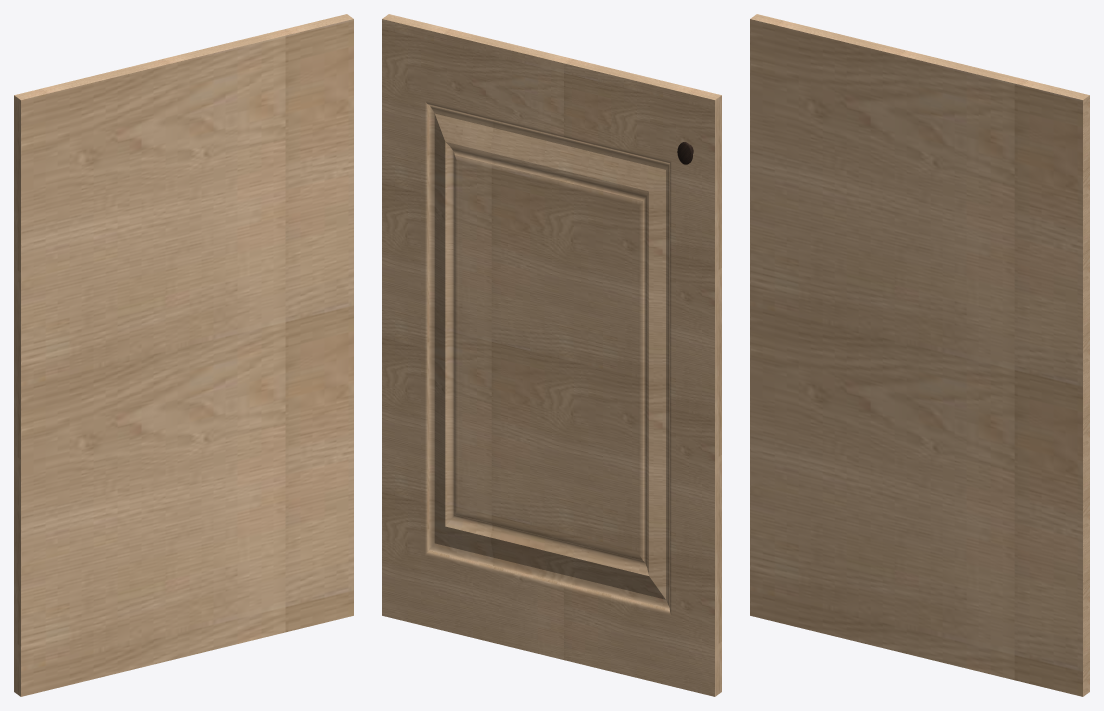
Rendered from дверь гостинная.FBX.
The picture shows the model from 3 angles, left to right: view 1: azimuth 30°, elevation 25°; view 2: azimuth 150°, elevation 25°; view 3: azimuth 330°, elevation 25°; orthographic projection.
Visible parts, largest first — view 1: Object183; view 2: Object183; view 3: Object183.
Part boxes in pixels (x1,y1,x2,y2): Object183: (14, 14, 353, 696); Object183: (382, 14, 721, 696); Object183: (750, 14, 1089, 696).
Bounding box in the file's own units: 476 × 816 × 30.84.
